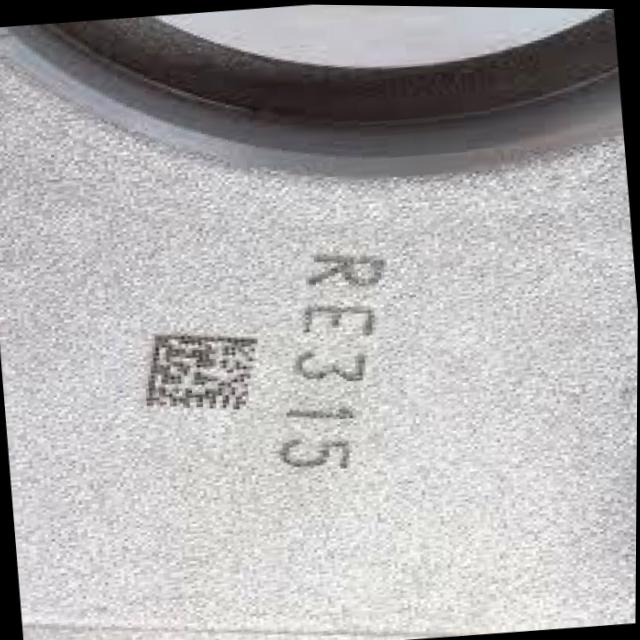datamatrix: (127, 318, 277, 424)
